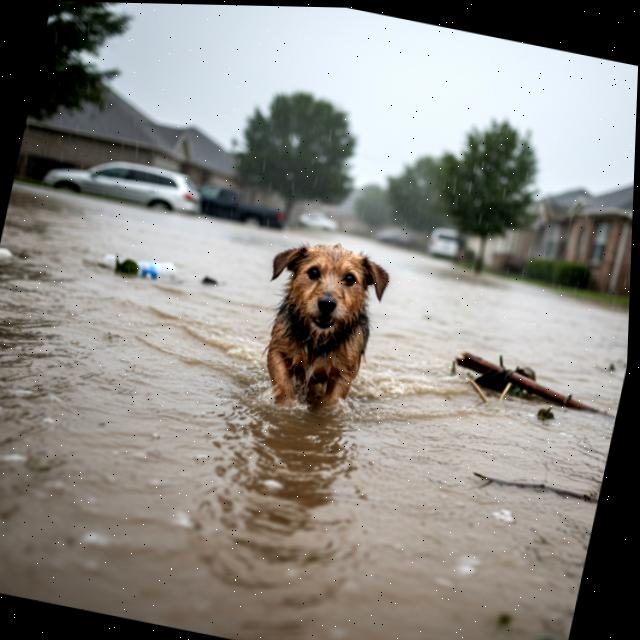dog: (219, 212, 428, 443)
